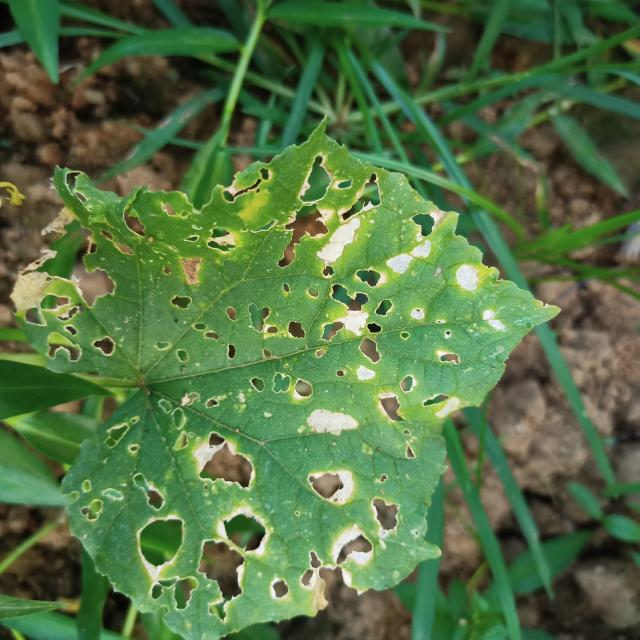disease_cucumber: (24, 162, 518, 609)
